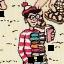waldo: (22, 2, 41, 27)
